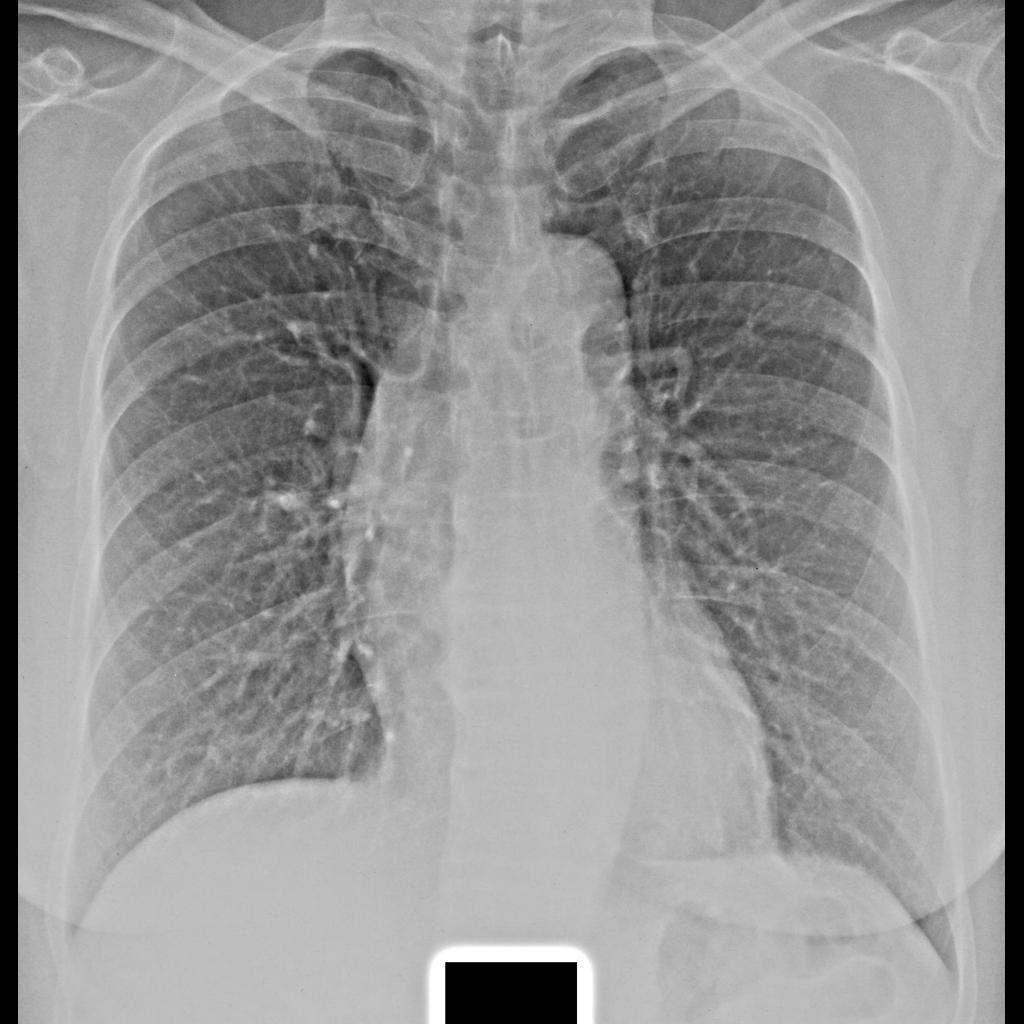Nodule: (638, 776, 736, 874)
